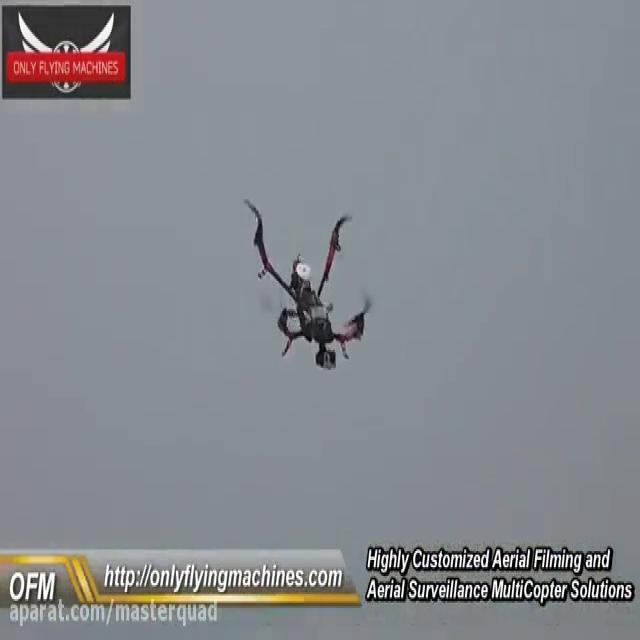drone: (239, 192, 378, 374)
